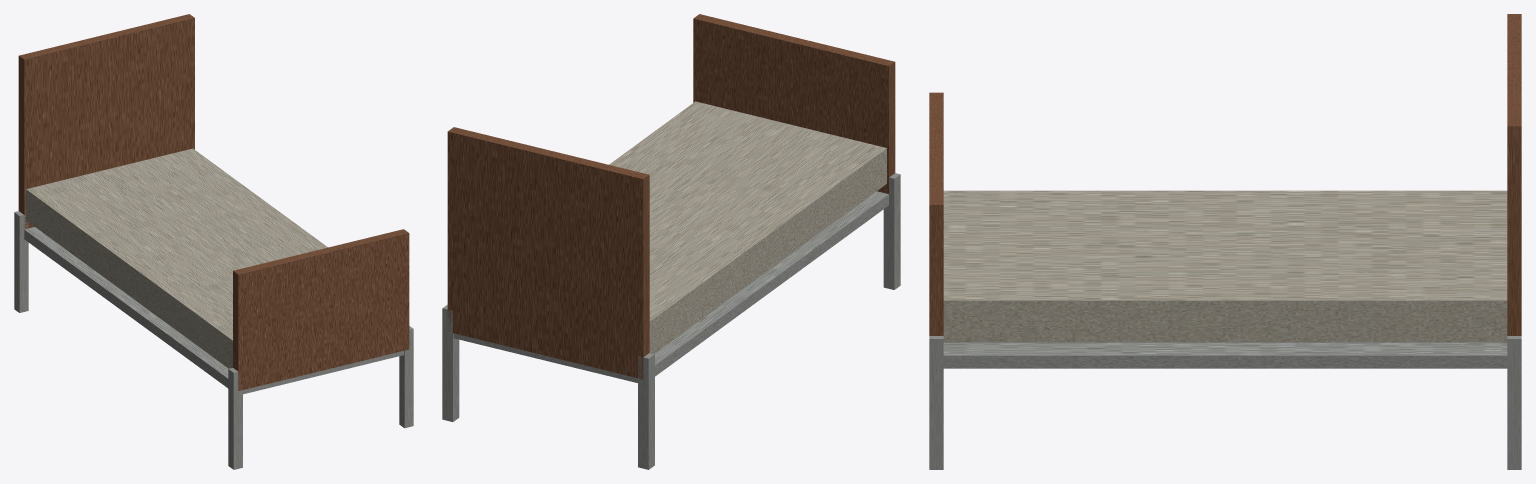
Rendered from hospital_bed.glb.
3 views of the same model, side by side, from view 1: azimuth 30°, elevation 25°; view 2: azimuth 150°, elevation 25°; view 3: azimuth 270°, elevation 25° (orthographic). The views are drawn at different scales.
Visible parts, largest first — view 1: synthetic; view 2: synthetic; view 3: synthetic.
Boxes of the visible parts, x1,y1,x2,y2 form: synthetic: [14, 14, 413, 469]; synthetic: [442, 14, 900, 469]; synthetic: [929, 14, 1521, 469].
Size of the model in its own units: 1.65 by 2.21 by 3.48.
Materials: 1 (1 with a texture image).
